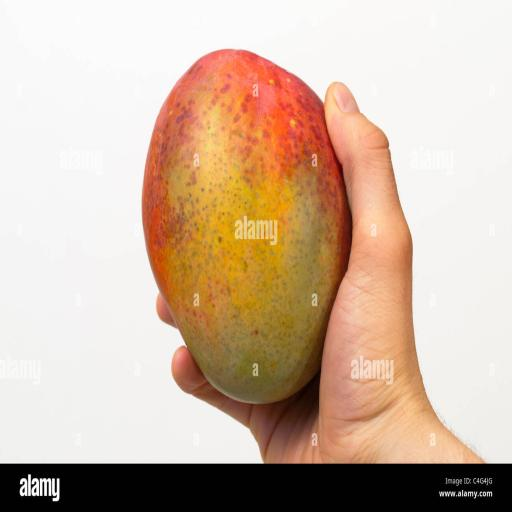mango: (143, 50, 351, 402)
